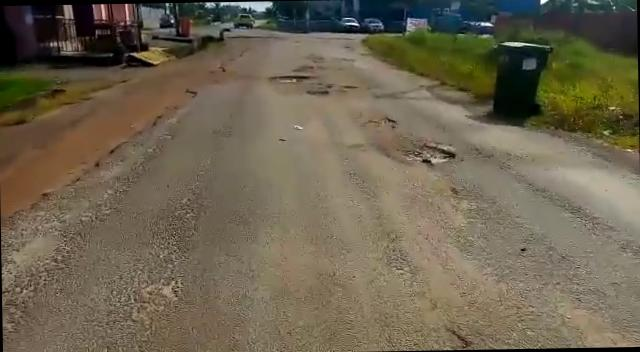pothole: (394, 140, 456, 168), (268, 72, 312, 82), (304, 88, 328, 96)
